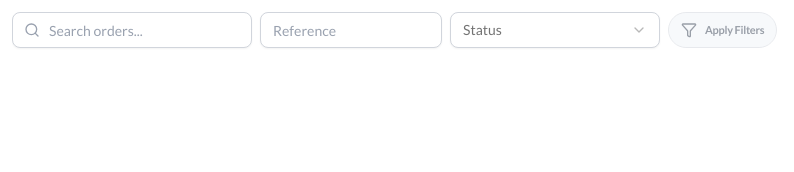
Test: CustomFilter › enables Apply and surfaces the unsaved hint after editing a field
Type "ABC" into the field with placeholder "Reference" at (351, 30), box [260, 12, 442, 48]
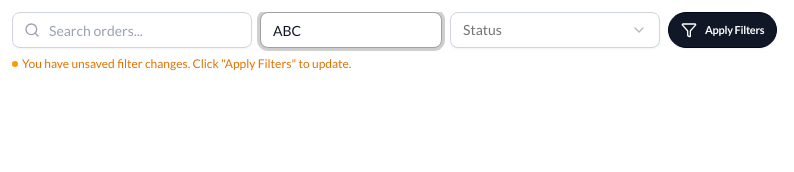
Result: the button "Apply Filters" is enabled at [668, 12, 777, 48]
Result: the text "unsaved filter changes" is shown at [22, 56, 351, 71]
